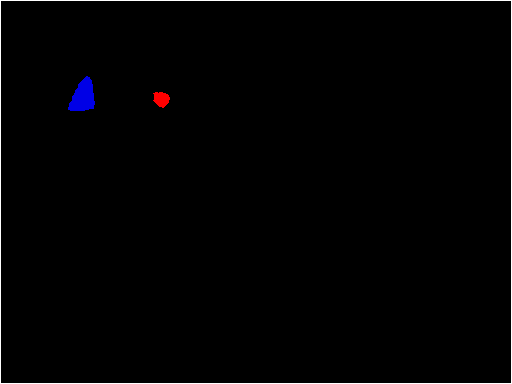chipped: (72, 84, 91, 106)
detached: (154, 90, 168, 107)
